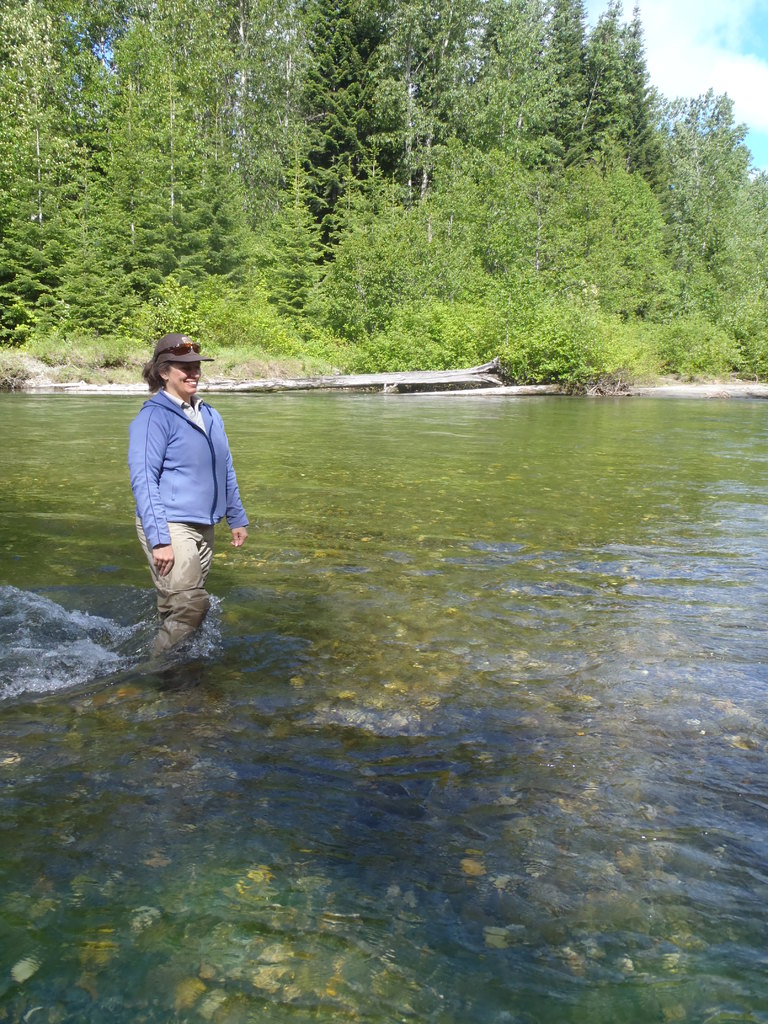Person: (127, 331, 248, 673)
